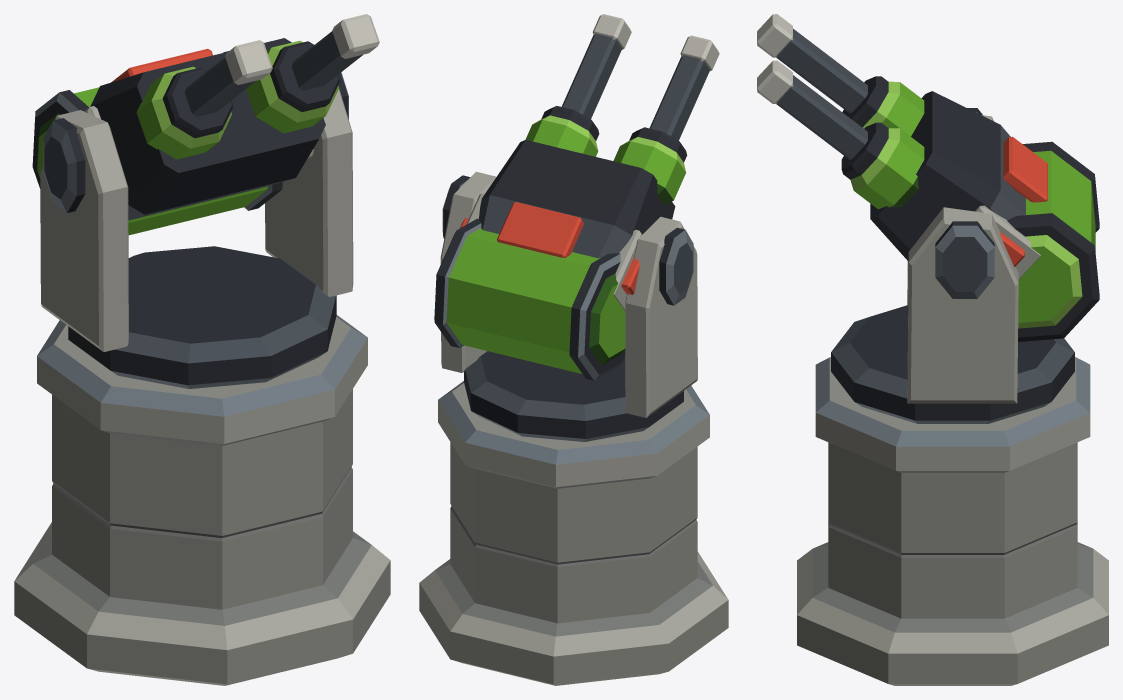
The model's file is lv2_anti-aerien.glb.
The picture shows the model from 3 angles, left to right: view 1: azimuth 30°, elevation 25°; view 2: azimuth 150°, elevation 25°; view 3: azimuth 270°, elevation 25°; orthographic projection. The views are drawn at different scales.
Parts seen in each view (by area): view 1: Base, Turret_Yaw, Barrel_Recoil, Team_Panels; view 2: Base, Barrel_Recoil, Turret_Yaw, Team_Panels; view 3: Base, Barrel_Recoil, Turret_Yaw, Team_Panels.
Boxes of the visible parts, x1,y1,x2,y2 form: Base: (14,315,390,685); Turret_Yaw: (40,72,353,388); Barrel_Recoil: (32,14,379,235); Team_Panels: (111,48,212,82); Base: (419,381,728,685); Barrel_Recoil: (434,14,719,380); Turret_Yaw: (440,171,697,441); Team_Panels: (460,202,639,294); Base: (797,357,1108,685); Barrel_Recoil: (757,14,1099,341); Turret_Yaw: (831,108,1074,423); Team_Panels: (1000,136,1047,266).
Size of the model in its own units: 1.26 by 2.6 by 1.42.
